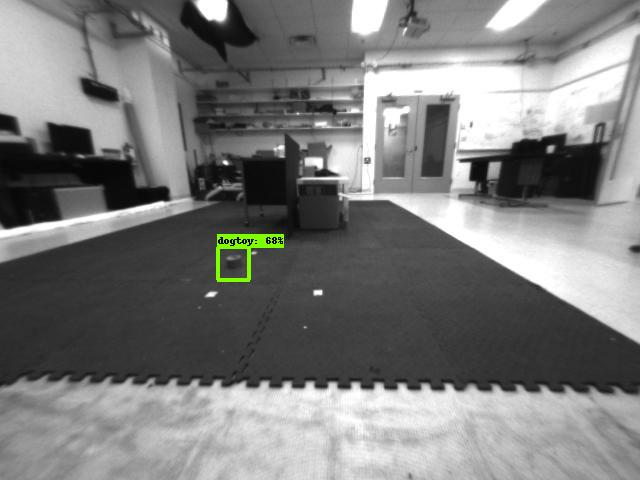dogtoy: (220, 246, 249, 277)
